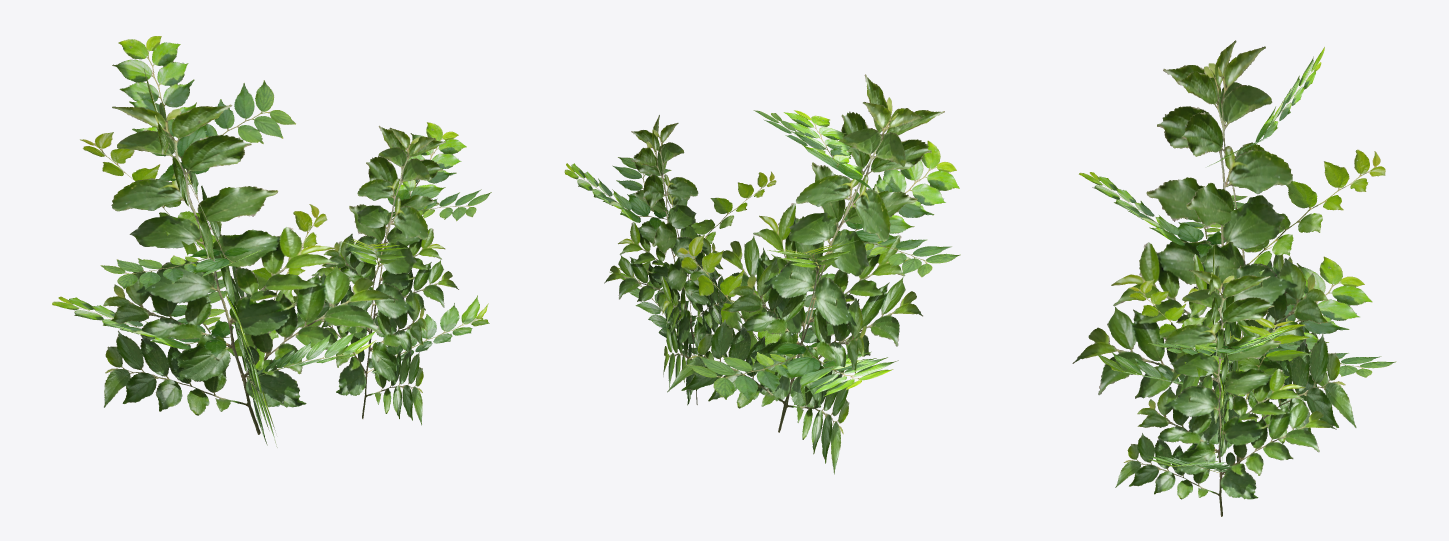
File: m_grass_38.fbx
3 views of the same model, side by side, from view 1: azimuth 30°, elevation 25°; view 2: azimuth 150°, elevation 25°; view 3: azimuth 270°, elevation 25° (orthographic). The views are drawn at different scales.
Parts seen in each view (by area): view 1: mesh_grass_38_LOD0; view 2: mesh_grass_38_LOD0; view 3: mesh_grass_38_LOD0.
Part boxes in pixels (<box>): mesh_grass_38_LOD0: <box>52,36,491,447</box>; mesh_grass_38_LOD0: <box>564,74,960,474</box>; mesh_grass_38_LOD0: <box>1072,40,1396,516</box>.
Bounding box in the file's own units: 0.8458 × 0.8501 × 0.6726.
